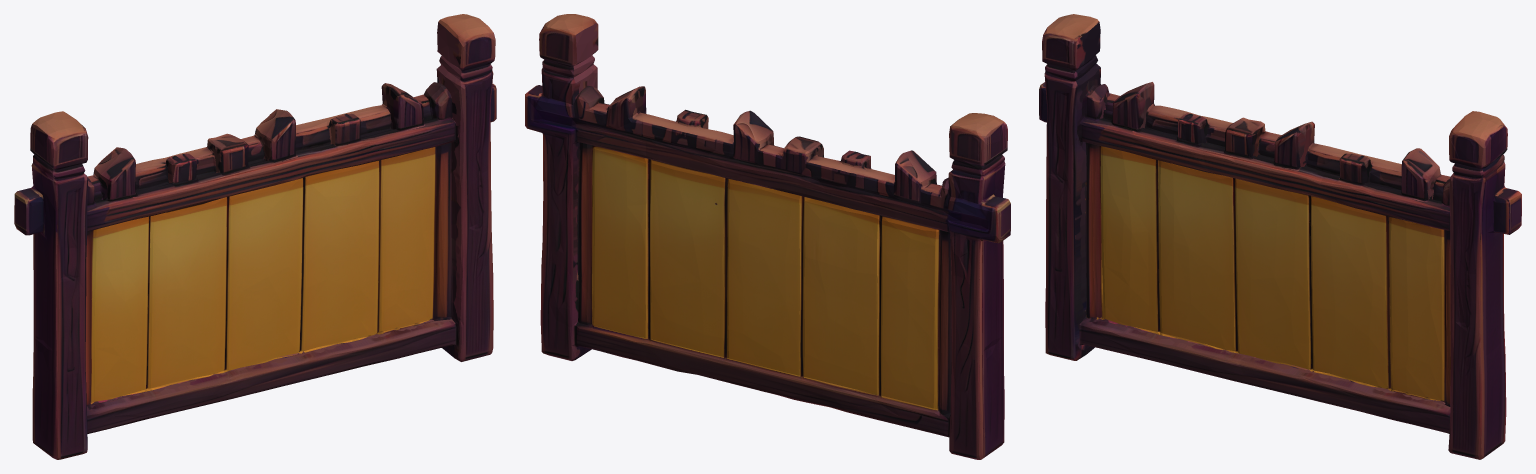
The picture shows the model from 3 angles, left to right: view 1: azimuth 30°, elevation 25°; view 2: azimuth 150°, elevation 25°; view 3: azimuth 330°, elevation 25°; orthographic projection.
Parts seen in each view (by area): view 1: 5_1234_50_5.0_384_8000.obj; view 2: 5_1234_50_5.0_384_8000.obj; view 3: 5_1234_50_5.0_384_8000.obj.
Part boxes in pixels (box(x1,y1,x2,y2)): 5_1234_50_5.0_384_8000.obj: box(14, 14, 496, 459); 5_1234_50_5.0_384_8000.obj: box(525, 14, 1010, 459); 5_1234_50_5.0_384_8000.obj: box(1039, 14, 1521, 459).
Size of the model in its own units: 1.99 by 1.33 by 0.1972.
1 material, 1 textured.
